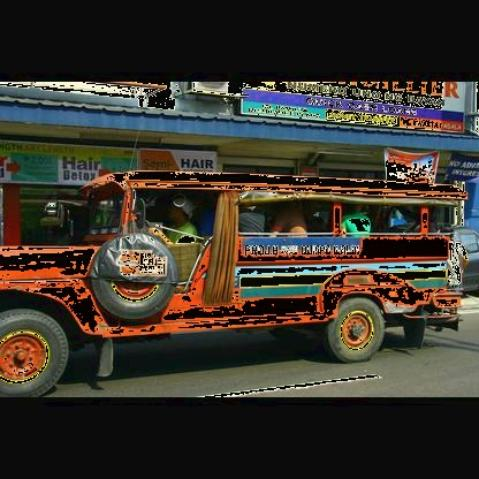jeepney: (4, 161, 475, 395)
